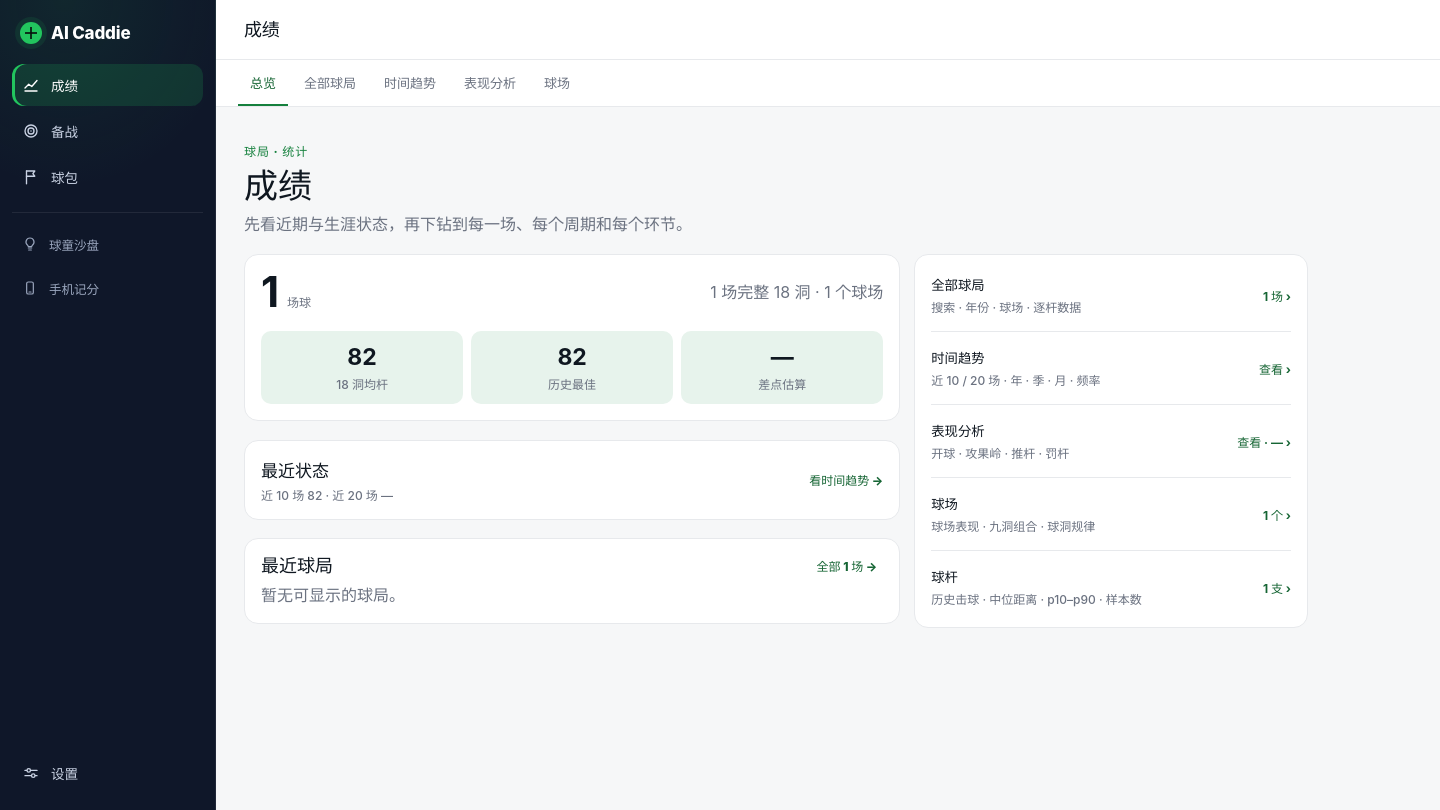
Test: App navigation › search-selected course outside course options shows its searched name in the prep header
Click the button "备战" at [108, 131], box [12,110,203,152]
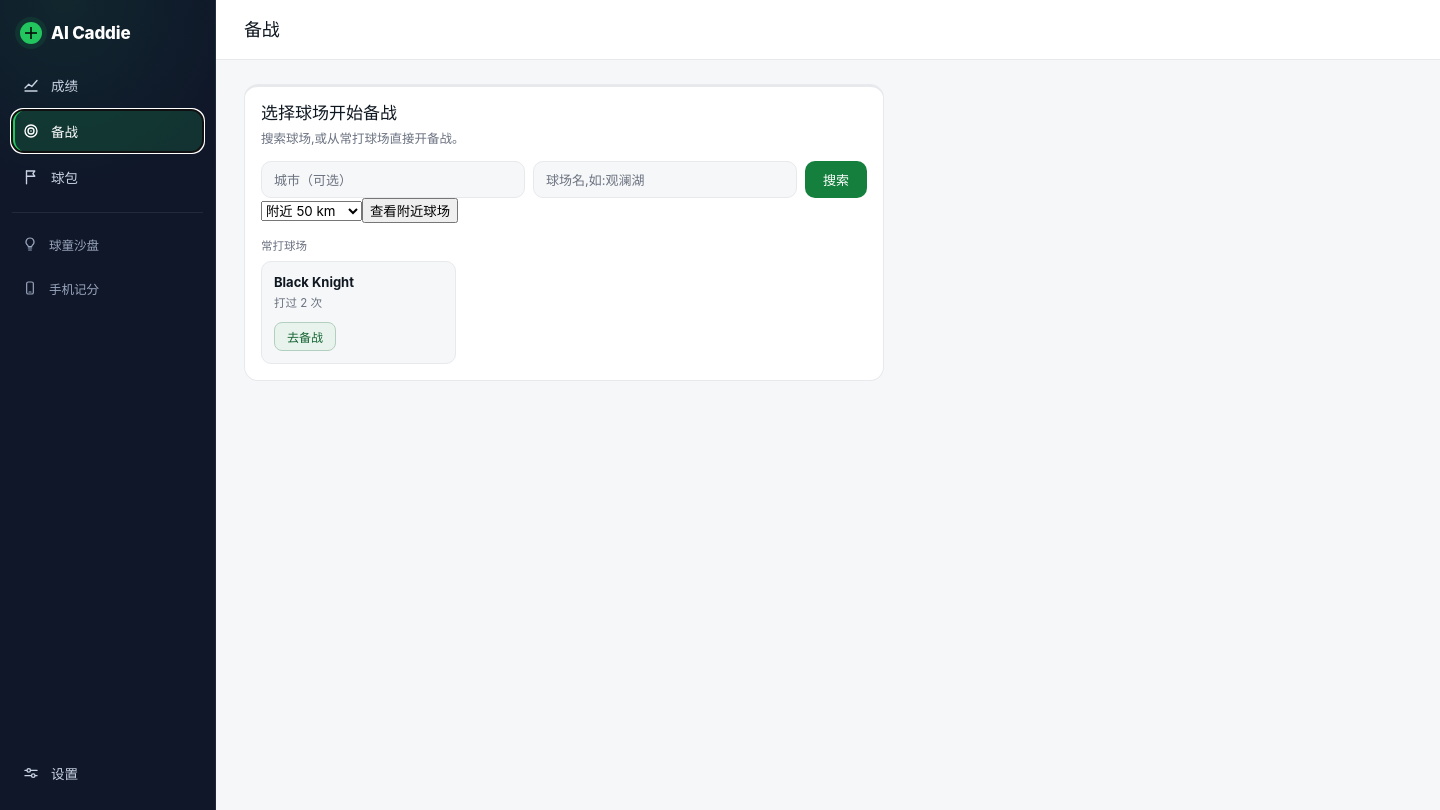
Type "观澜湖" into the field named "搜索球场" at [665, 180], box [533,161,797,198]
Then press Enter
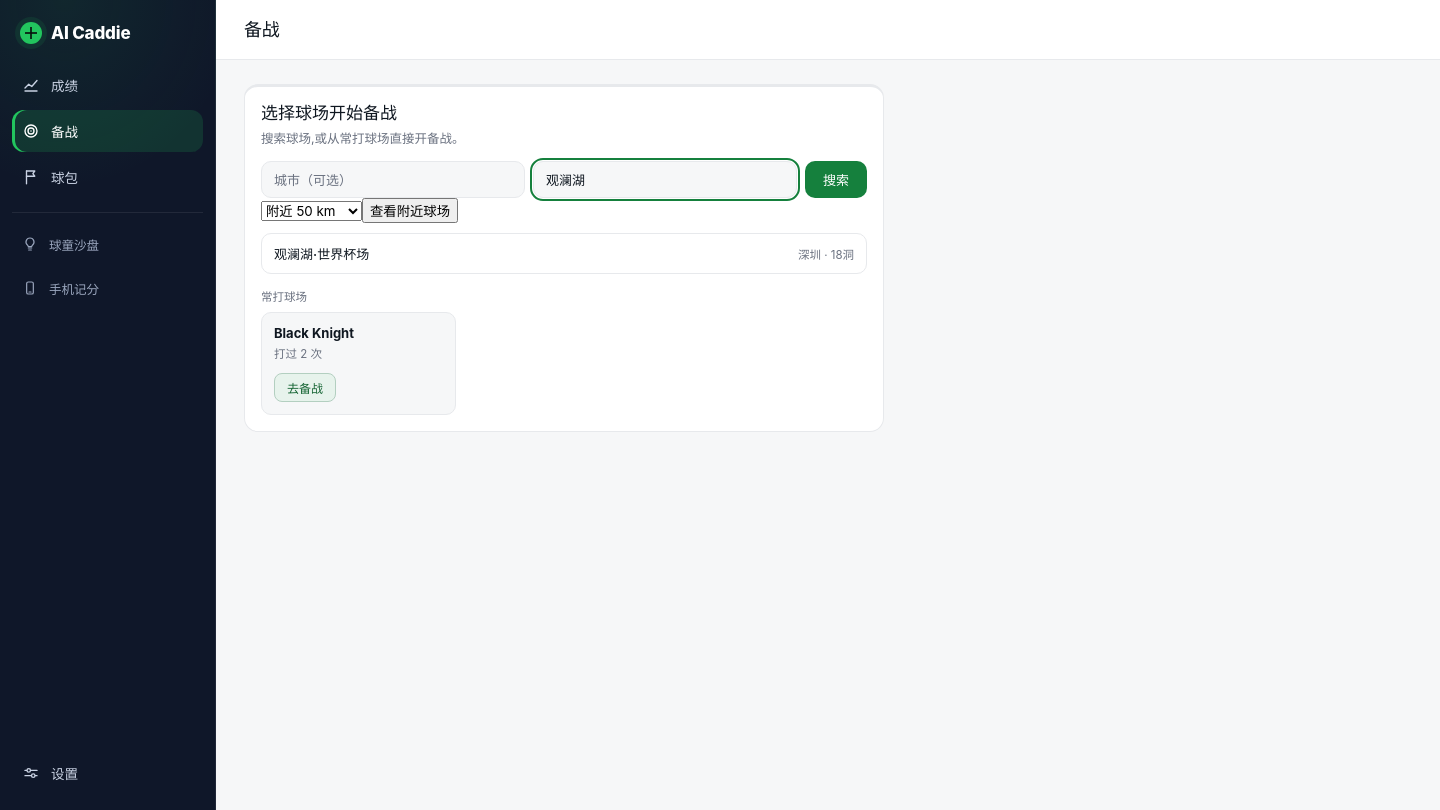
Click the button "观澜湖·世界杯场 深圳 · 18洞" at [322, 254], box [262,234,866,273]
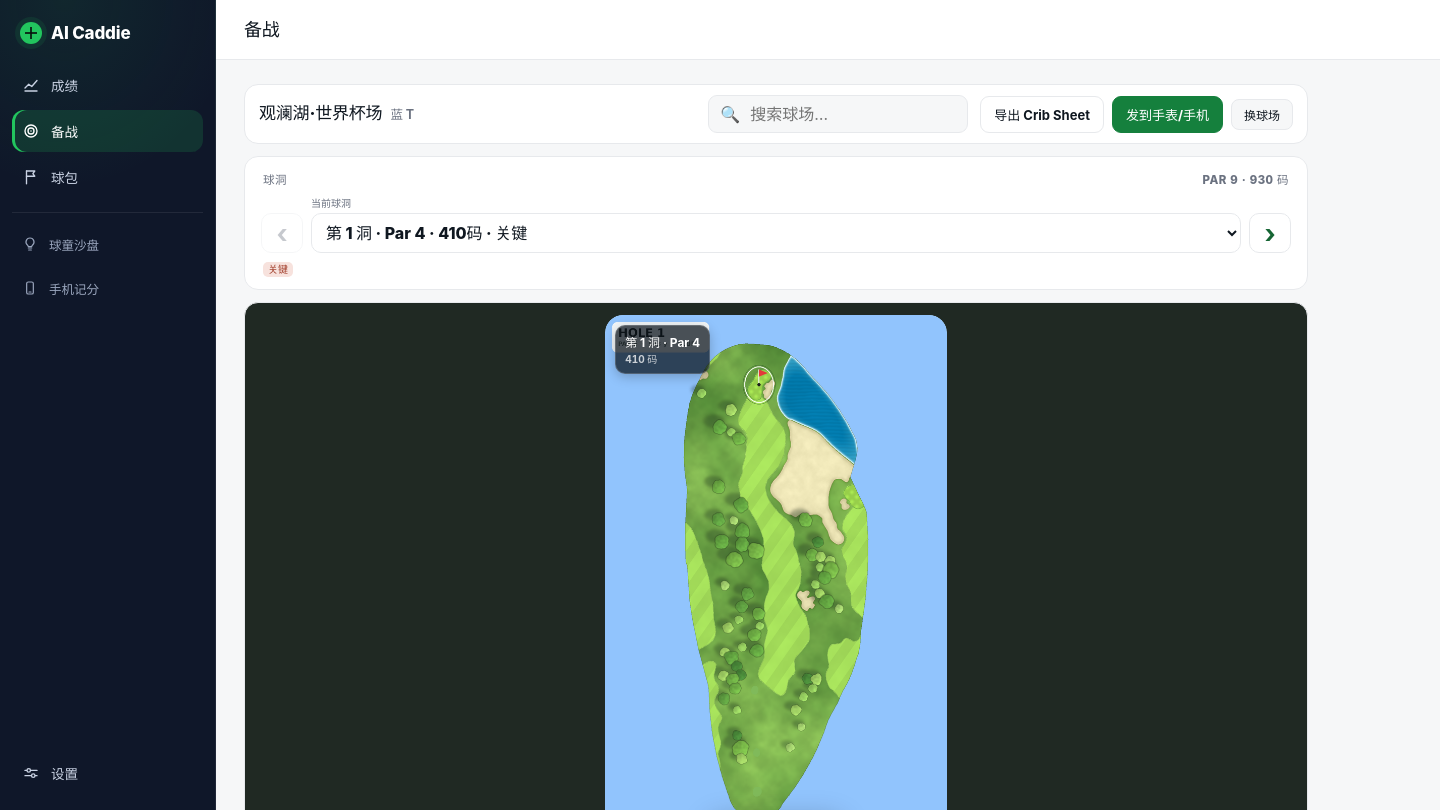
Result: the heading "观澜湖·世界杯场" is shown at [259,103,382,125]
Note: 换球场 clears the remembered course (and its name) back to the entry state.
Click the button "换球场" at [1262, 114], box [1231,98,1293,130]
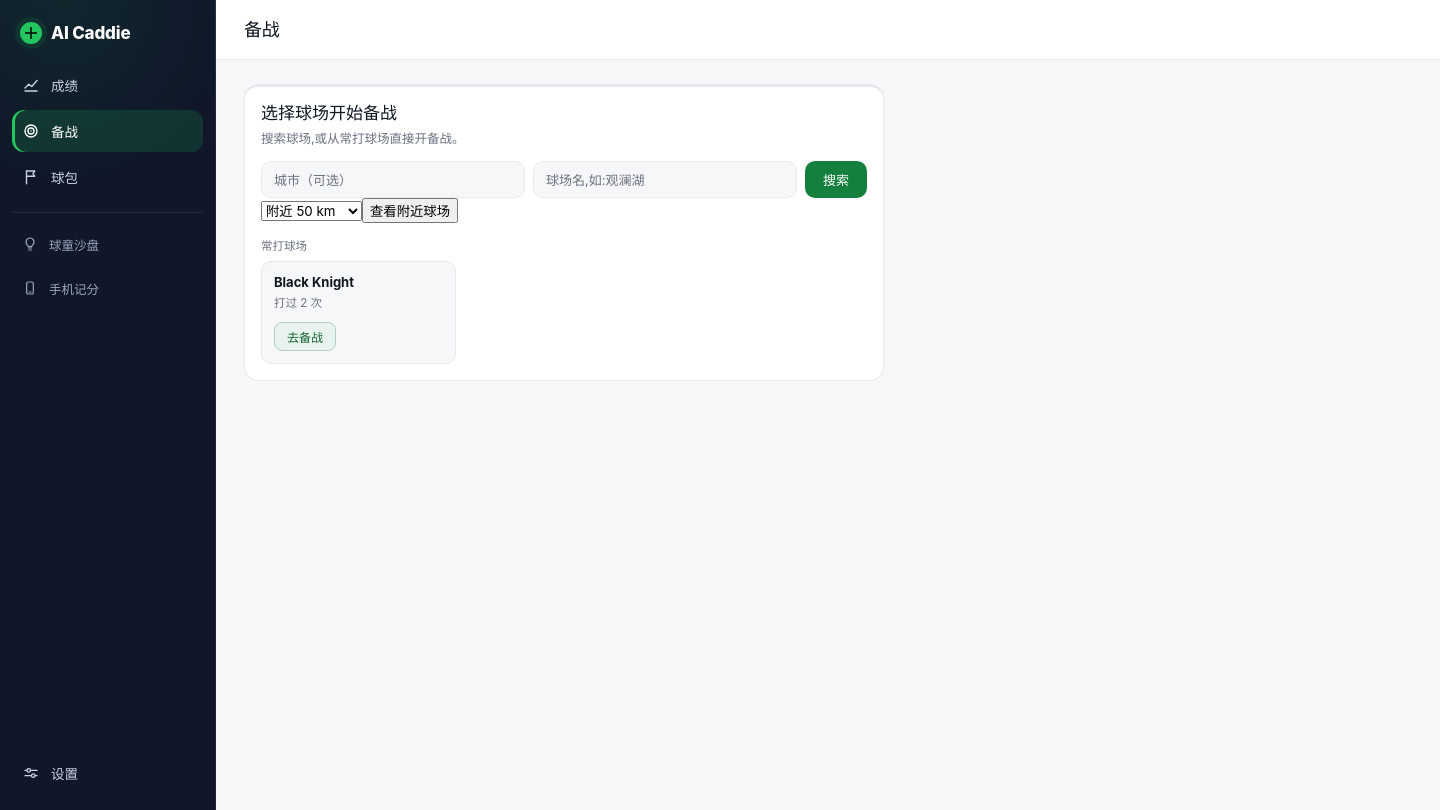
Result: the heading "选择球场开始备战" is shown at [261,103,397,123]
